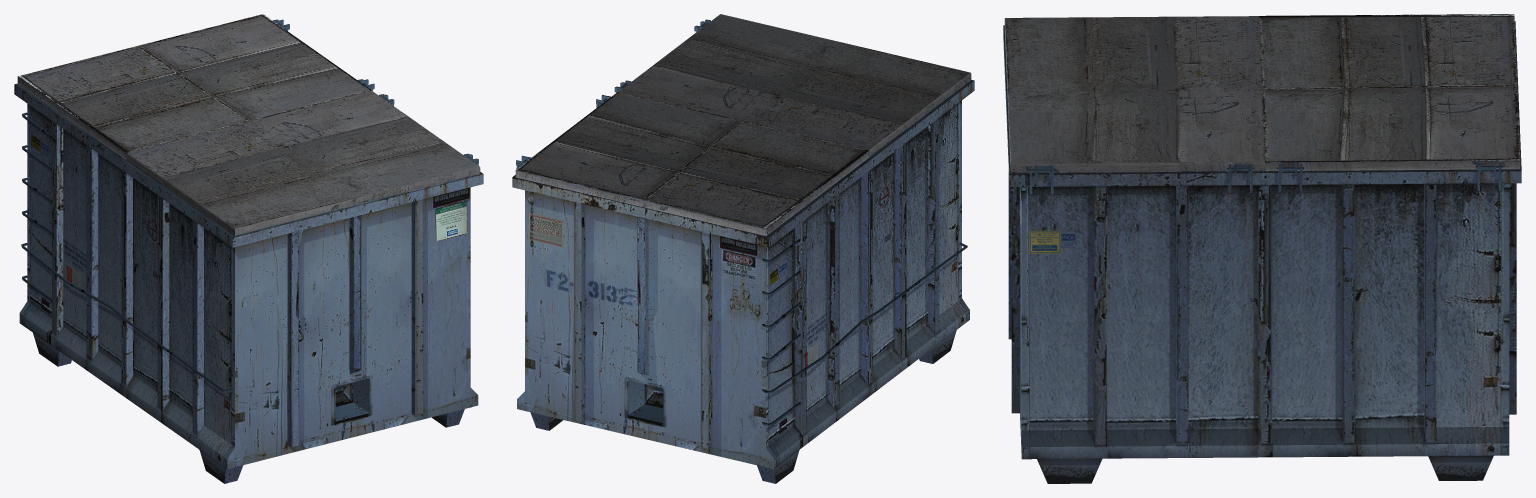
File: blue_container.fbx
3 views of the same model, side by side, from view 1: azimuth 30°, elevation 25°; view 2: azimuth 150°, elevation 25°; view 3: azimuth 270°, elevation 25° (orthographic). The views are drawn at different scales.
Visible parts, largest first — view 1: blue_container.001; view 2: blue_container.001; view 3: blue_container.001.
Part boxes in pixels (x1,y1,x2,y2): blue_container.001: [14, 14, 483, 483]; blue_container.001: [512, 14, 974, 483]; blue_container.001: [1003, 14, 1521, 483].
Size of the model in its own units: 3.37 by 3.22 by 4.68.
Materials: 1 (1 with a texture image).
